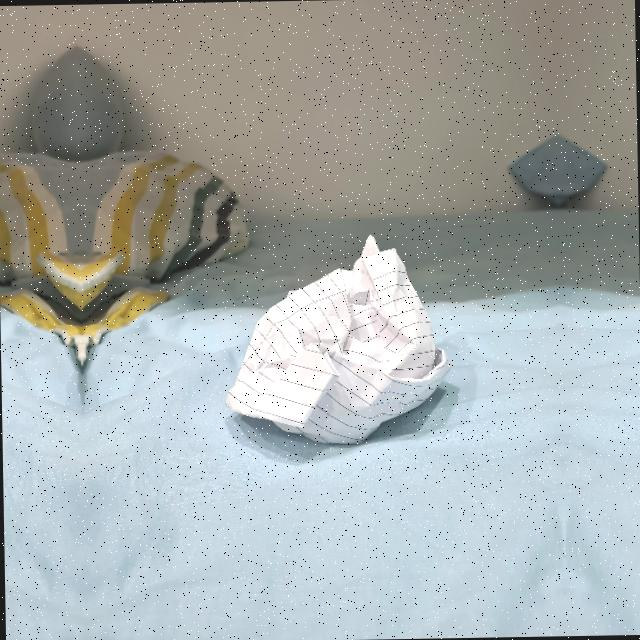paper: (218, 237, 459, 454)
